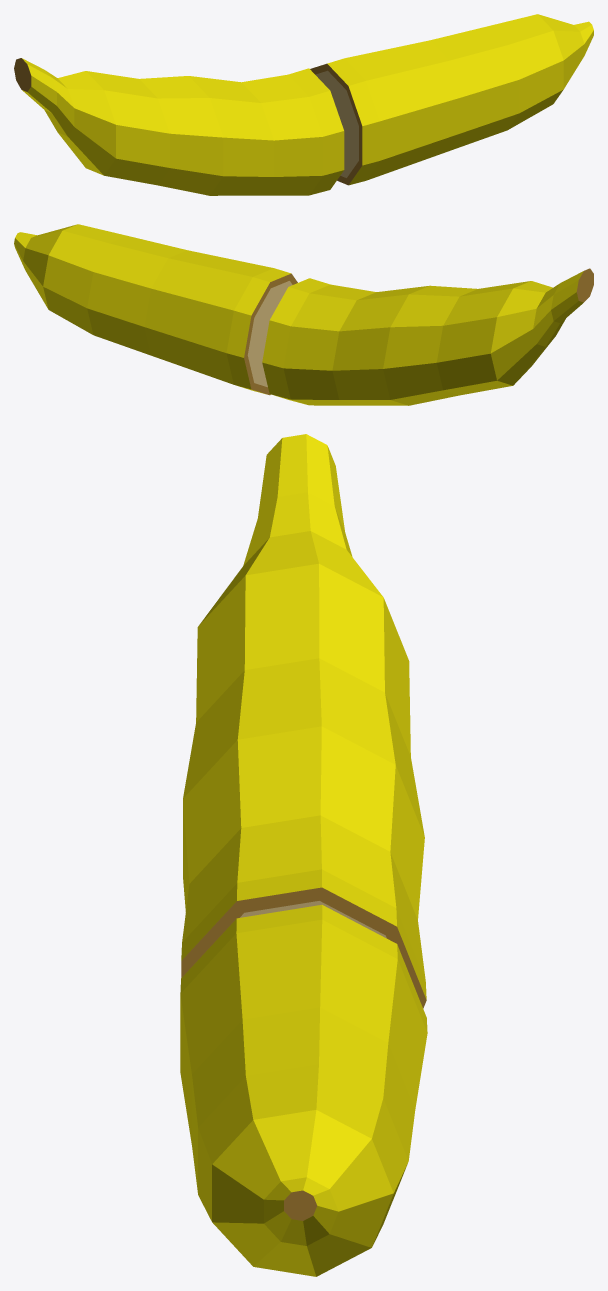
The model's file is Banana_Cut.fbx.
3 renders of one model, top to bottom at view 1: azimuth 30°, elevation 25°; view 2: azimuth 150°, elevation 25°; view 3: azimuth 270°, elevation 25°, orthographic. The views are drawn at different scales.
Visible parts, largest first — view 1: Banana_Left, Banana_Right; view 2: Banana_Left, Banana_Right; view 3: Banana_Left, Banana_Right.
Boxes of the visible parts, left/top/right/bottom form: Banana_Left: left=14, top=58, right=344, bottom=195; Banana_Right: left=310, top=14, right=593, bottom=185; Banana_Left: left=262, top=268, right=593, bottom=405; Banana_Right: left=14, top=224, right=297, bottom=395; Banana_Left: left=181, top=434, right=426, bottom=1008; Banana_Right: left=180, top=905, right=427, bottom=1276.
Bounding box in the file's own units: 471 × 157 × 88.89.
